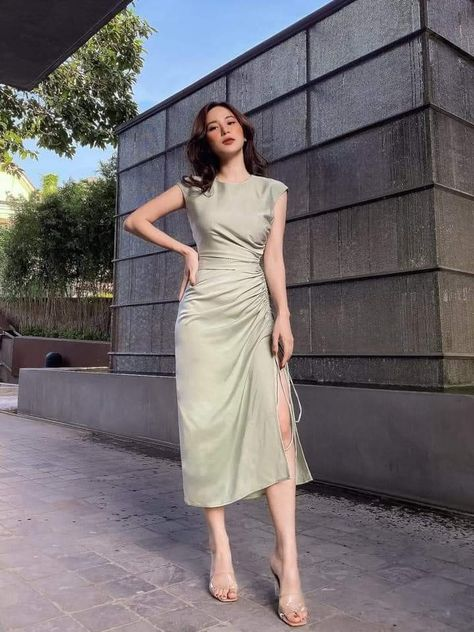person: (117, 96, 320, 628)
